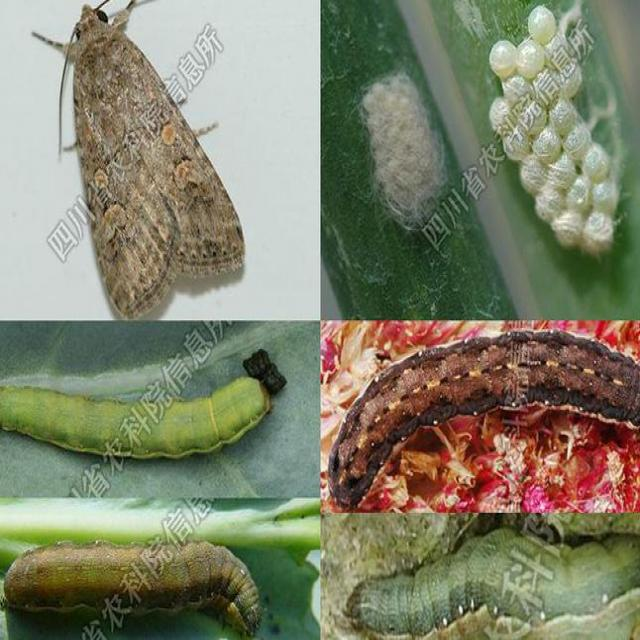BeetArmyWorm-Adult-: (32, 1, 270, 320)
BeetArmyWorm-Larva-: (339, 519, 639, 636), (4, 536, 274, 638), (0, 372, 272, 462)
